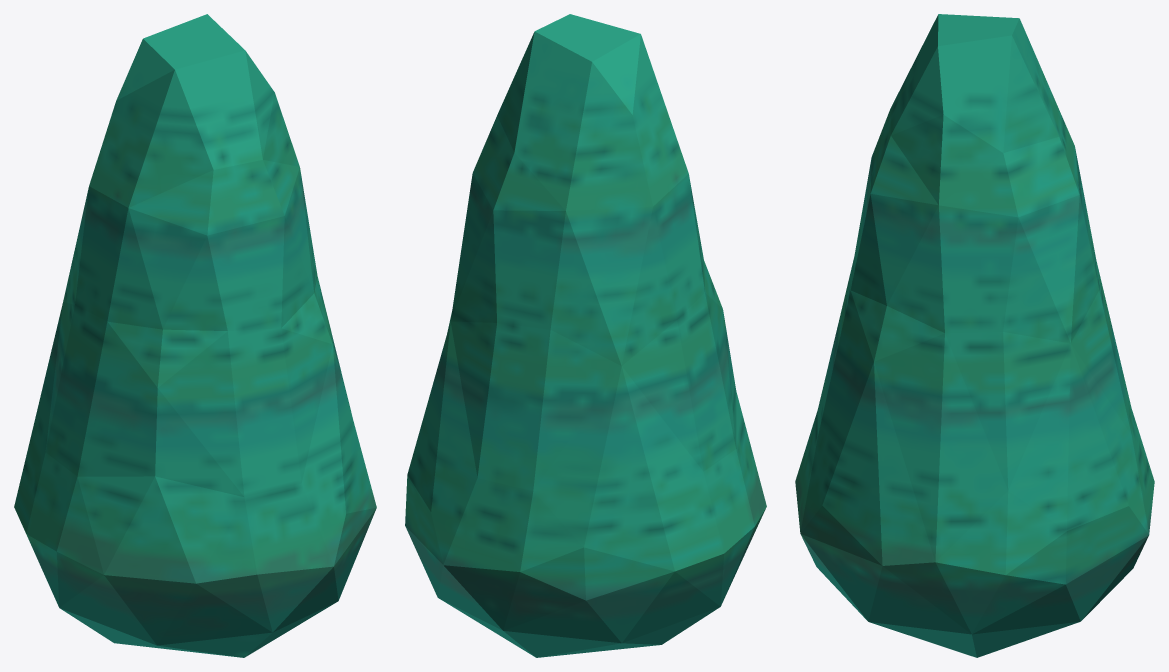
Rendered from bush1.fbx.
The picture shows the model from 3 angles, left to right: view 1: azimuth 30°, elevation 25°; view 2: azimuth 150°, elevation 25°; view 3: azimuth 270°, elevation 25°; orthographic projection.
Parts seen in each view (by area): view 1: Mball.004; view 2: Mball.004; view 3: Mball.004.
Boxes of the visible parts, x1,y1,x2,y2 form: Mball.004: (14, 14, 376, 657); Mball.004: (405, 14, 766, 657); Mball.004: (795, 14, 1154, 657).
Bounding box in the file's own units: 427 × 805 × 426.
